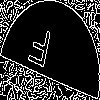F: (25, 24, 53, 78)
